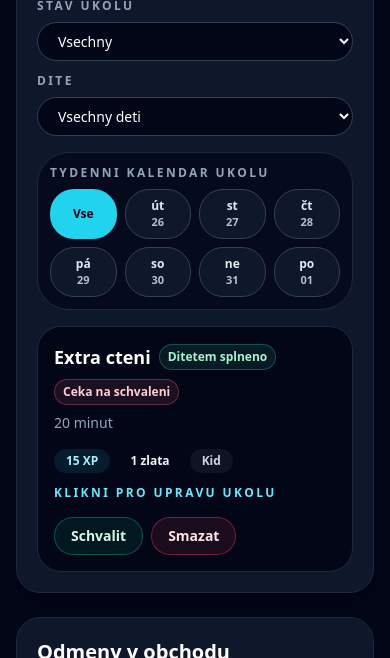
Test case: klik na ukol otevre upravu a ulozi zmeny
(page scrolled)
Expected: the heading "Extra cteni" is shown, [54,343,151,371]
Click the button "Extra cteni" at (102, 357), box [54,343,336,501]
(page scrolled)
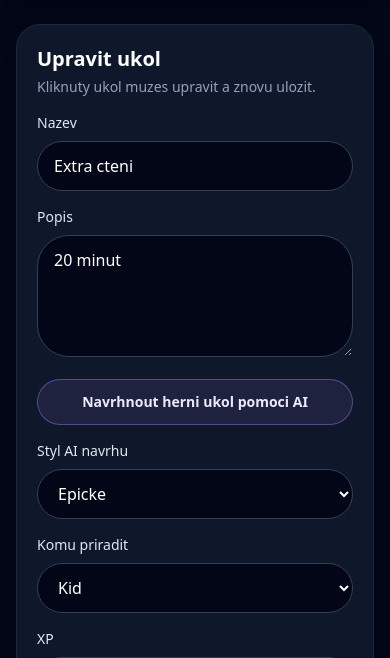
Now the heading "Upravit ukol" is shown, box [37,45,161,72]
Replace the text in the field labelled "Nazev" with "Extra cteni deluxe" at (195, 166), box [37,141,353,191]
(page scrolled)
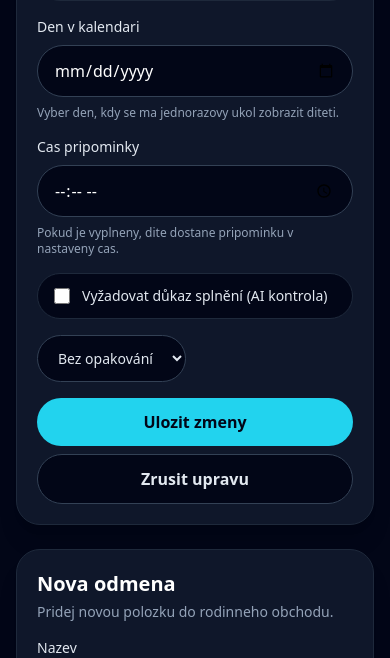
Click the button "Ulozit zmeny" at (195, 422), box [37,398,353,446]
(page scrolled)
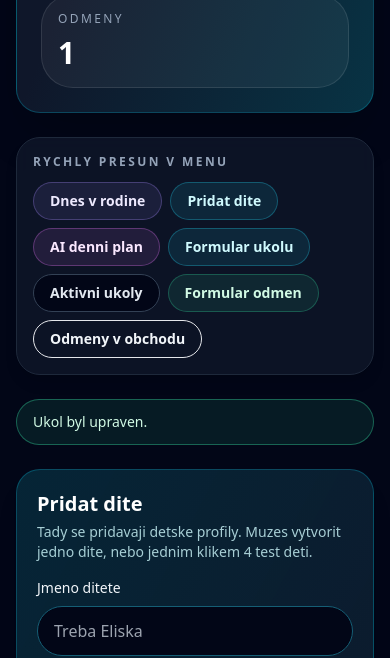
Now the text "Ukol byl upraven." is shown, box [16,399,374,445]
